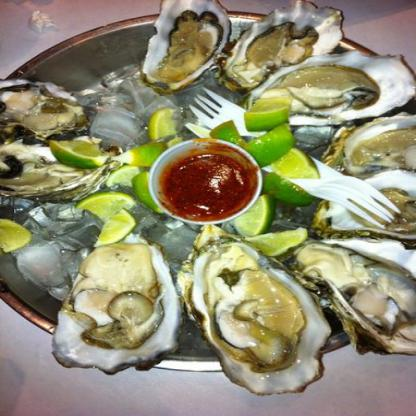oyster: (180, 232, 334, 396), (61, 243, 179, 374), (295, 242, 415, 359), (231, 0, 346, 92), (258, 60, 415, 124), (0, 139, 124, 202), (144, 0, 222, 90), (0, 72, 94, 135), (331, 121, 415, 176)
